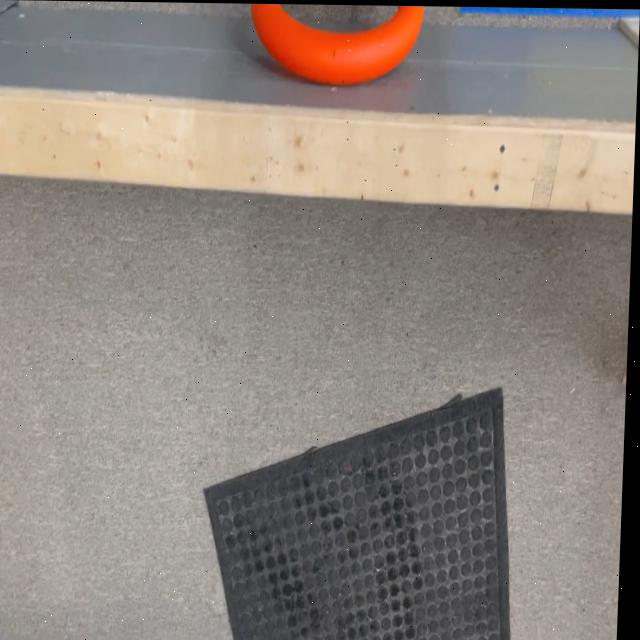note: (239, 3, 428, 80)
